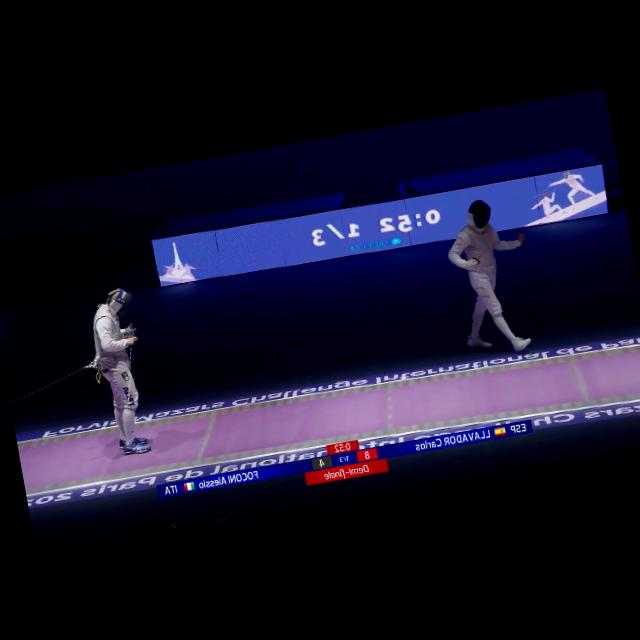blade: (106, 327, 151, 408), (468, 226, 534, 266)
